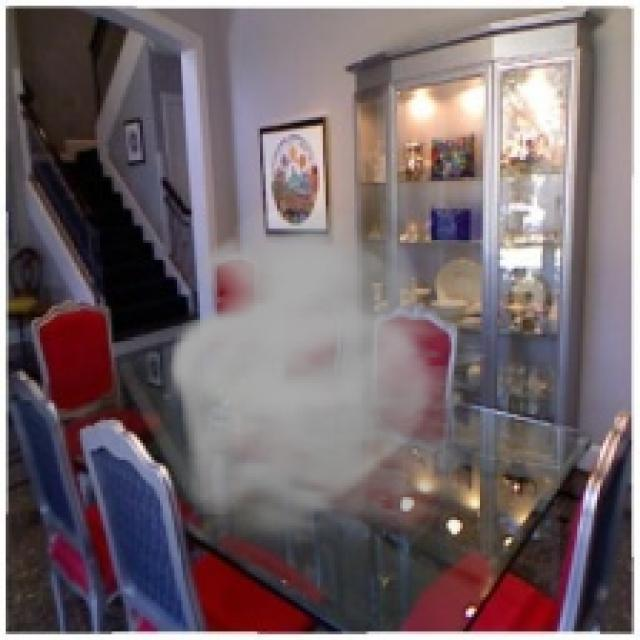Smoke: (162, 206, 528, 563)
